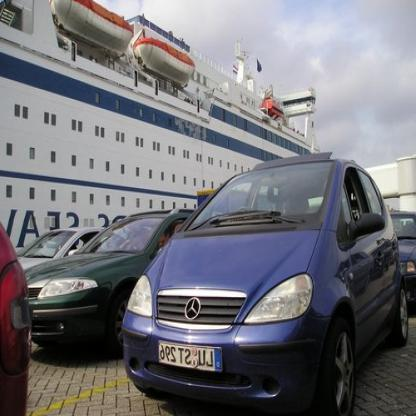boat: (2, 1, 321, 256), (54, 1, 136, 58), (134, 37, 197, 87)
car: (121, 152, 410, 416), (25, 208, 198, 357), (16, 227, 107, 270)
